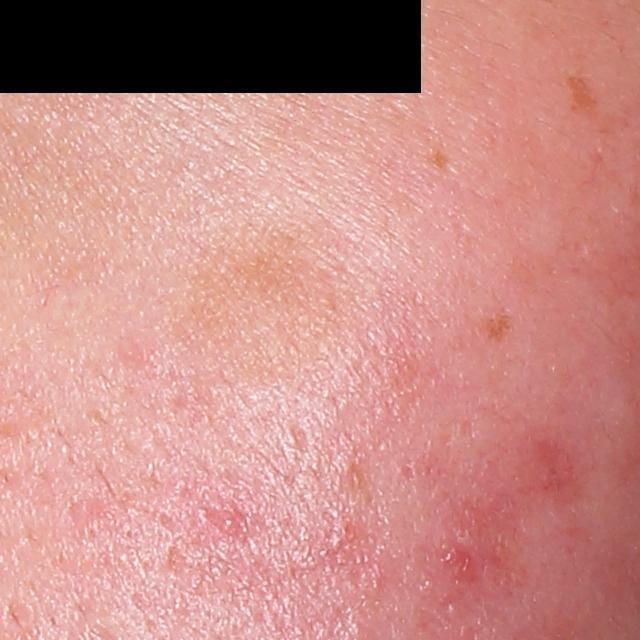melasma: (178, 228, 365, 389), (559, 74, 602, 127), (482, 314, 519, 347), (423, 148, 447, 176)
papule: (211, 506, 249, 538)
